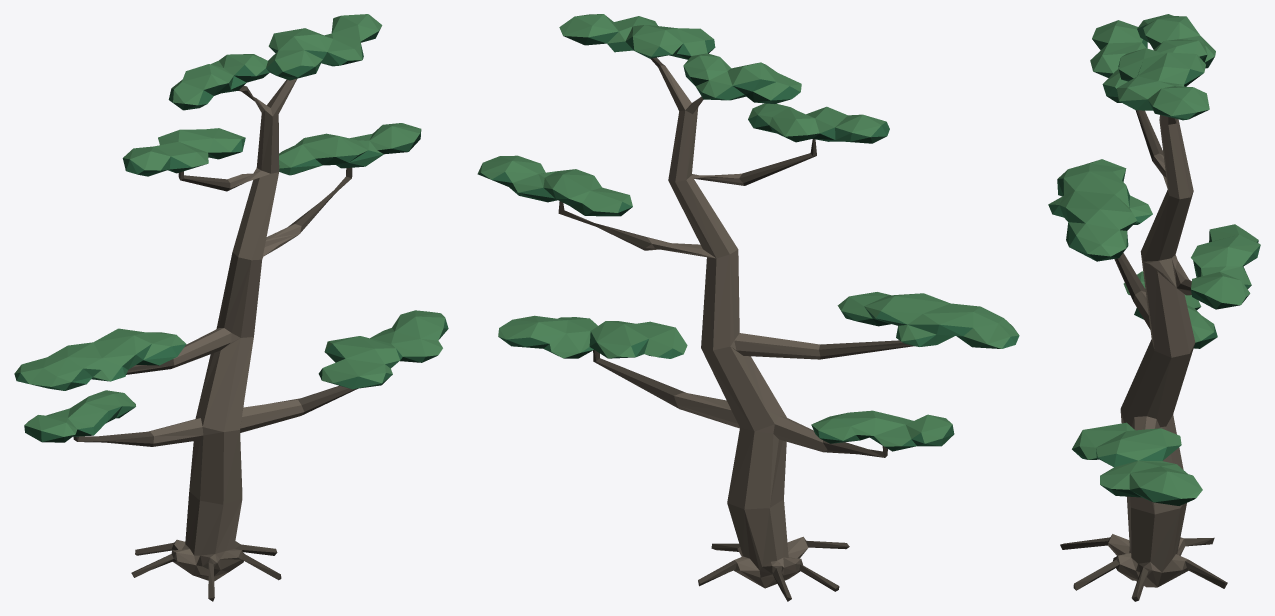
File: ancient-pine-1410-lod2.glb
The picture shows the model from 3 angles, left to right: view 1: azimuth 30°, elevation 25°; view 2: azimuth 150°, elevation 25°; view 3: azimuth 270°, elevation 25°; orthographic projection. The views are drawn at different scales.
Visible parts, largest first — view 1: n12.006, n8.006, n11.006, n9.006, n10.006; view 2: n12.006, n8.006, n9.006, n11.006, n10.006; view 3: n12.006, n8.006, n11.006, n9.006, n10.006.
Boxes of the visible parts, x1,y1,x2,y2 form: n12.006: (14, 14, 445, 436); n8.006: (149, 79, 304, 581); n11.006: (14, 19, 448, 441); n9.006: (73, 85, 357, 601); n10.006: (31, 28, 437, 442); n12.006: (477, 14, 1019, 446); n8.006: (646, 65, 827, 588); n9.006: (558, 57, 914, 601); n11.006: (491, 23, 1019, 446); n10.006: (477, 36, 1000, 451); n12.006: (1048, 14, 1260, 498); n8.006: (1108, 115, 1199, 587); n11.006: (1048, 24, 1260, 502); n9.006: (1060, 110, 1227, 601); n10.006: (1059, 37, 1254, 505).
Size of the model in its own units: 5.09 by 5.44 by 1.8.
